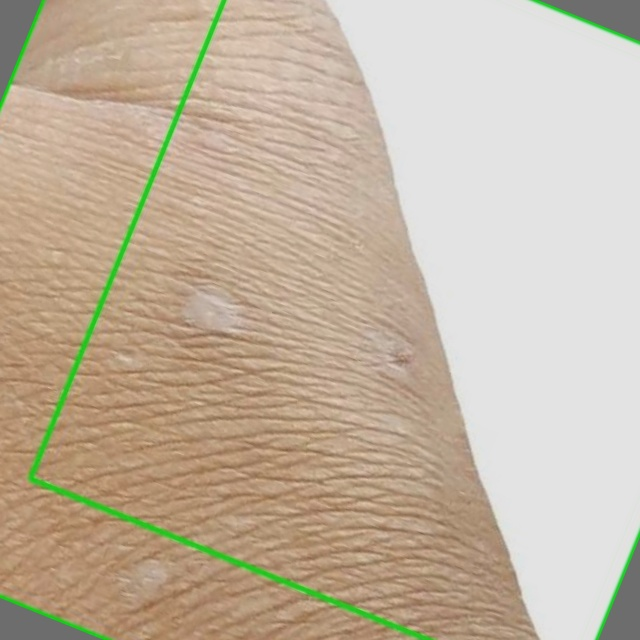Scabies: (0, 0, 639, 639), (30, 0, 639, 639)
